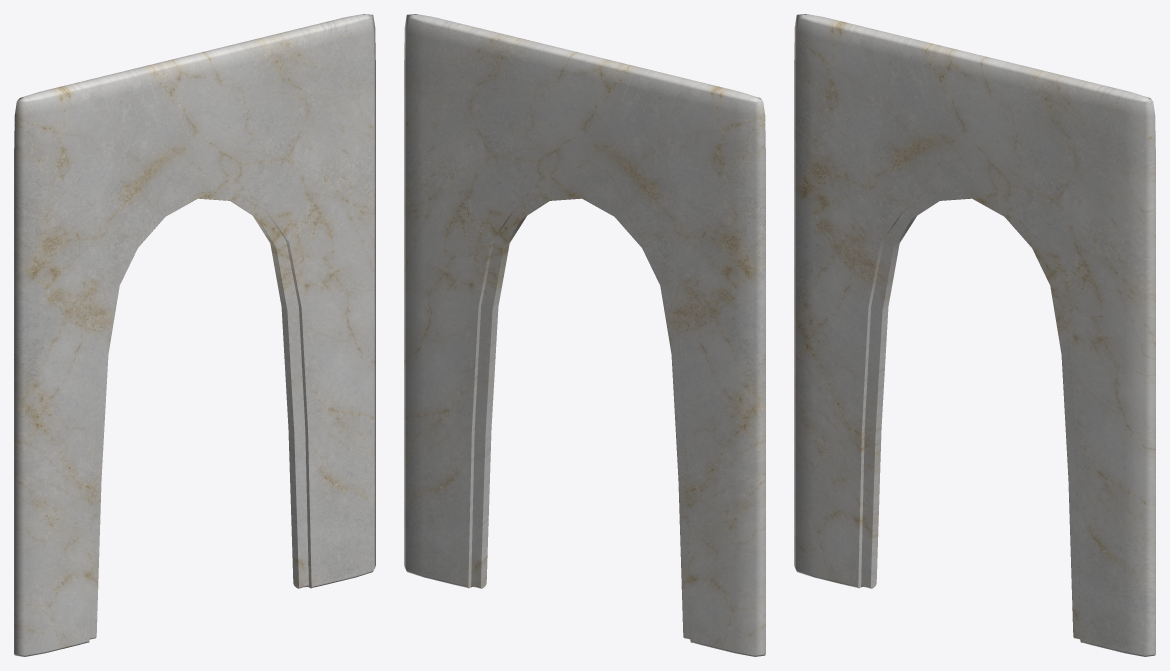
Rendered from Renai_PillarSupport.fbx.
3 views of the same model, side by side, from view 1: azimuth 30°, elevation 25°; view 2: azimuth 150°, elevation 25°; view 3: azimuth 330°, elevation 25° (orthographic).
Parts seen in each view (by area): view 1: PillarSupport; view 2: PillarSupport; view 3: PillarSupport.
Boxes of the visible parts, x1,y1,x2,y2 form: PillarSupport: (14,14,375,656); PillarSupport: (404,14,765,656); PillarSupport: (794,14,1155,656).
Size of the model in its own units: 7.34 by 10.8 by 0.393.
Materials: 1 (1 with a texture image).
